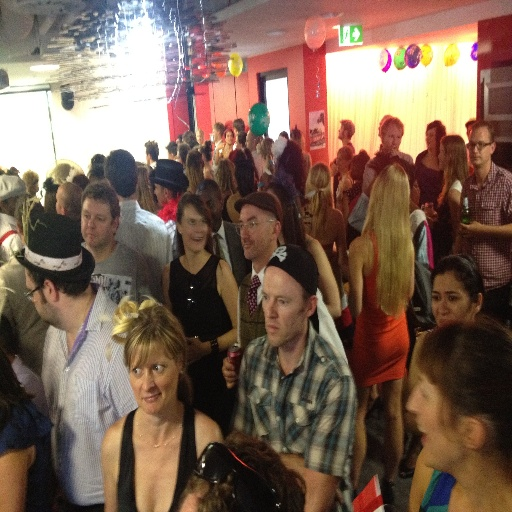hand: (288, 457, 344, 510), (221, 357, 240, 391), (186, 336, 205, 367), (459, 220, 483, 238), (424, 211, 434, 231), (429, 207, 437, 222)
